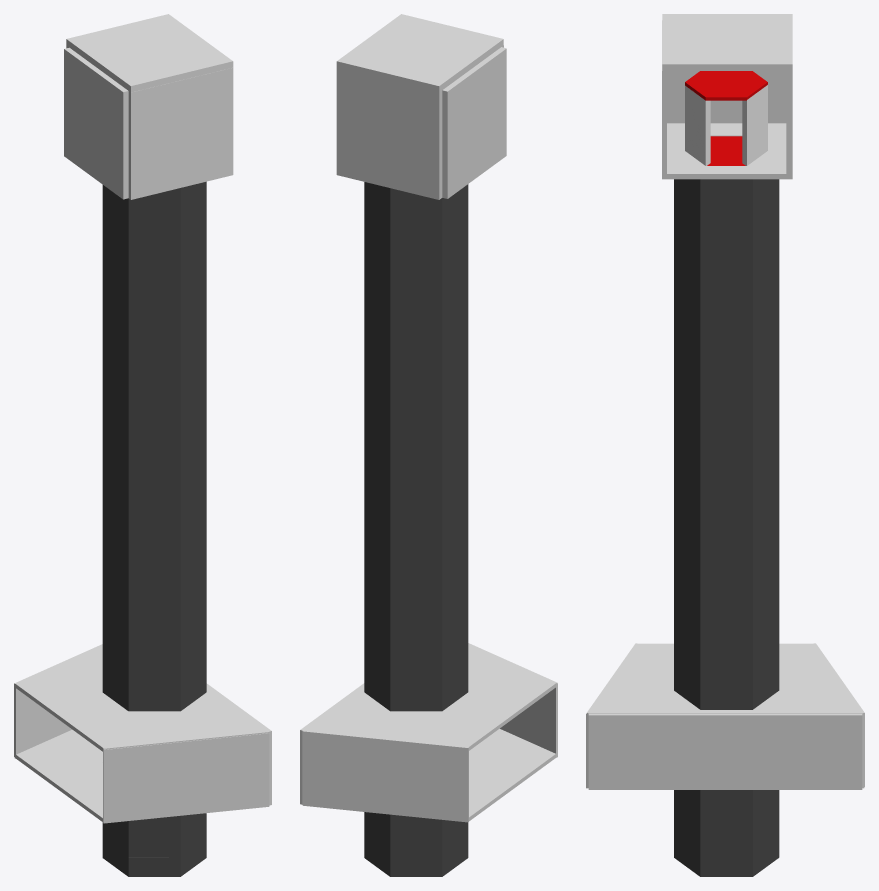
Rendered from HexagonalElevator.fbx.
3 renders of one model, left to right at view 1: azimuth 30°, elevation 25°; view 2: azimuth 150°, elevation 25°; view 3: azimuth 270°, elevation 25°, orthographic.
Visible parts, largest first — view 1: ElevatorShaft, Plane, Chapter1-2Area-Bottom, Chapter1-2Area-top, ElevatorShaft.001; view 2: ElevatorShaft, Plane, Chapter1-2Area-top, Chapter1-2Area-Bottom, ElevatorShaft.001; view 3: ElevatorShaft, Chapter1-2Area-Bottom, Plane, Chapter1-2Area-top, ElevatorMainObject, ElevatorShaft.001, ElevatorTopObject.
Boxes of the visible parts, <box> form: ElevatorShaft: <box>102,181,206,876</box>; Plane: <box>64,14,233,199</box>; Chapter1-2Area-Bottom: <box>14,683,271,823</box>; Chapter1-2Area-top: <box>14,644,269,821</box>; ElevatorShaft.001: <box>102,816,180,857</box>; ElevatorShaft: <box>364,182,468,876</box>; Plane: <box>336,14,506,199</box>; Chapter1-2Area-top: <box>302,643,557,821</box>; Chapter1-2Area-Bottom: <box>300,683,557,822</box>; ElevatorShaft.001: <box>364,812,468,858</box>; ElevatorShaft: <box>674,179,779,876</box>; Chapter1-2Area-Bottom: <box>586,713,864,789</box>; Plane: <box>662,14,792,179</box>; Chapter1-2Area-top: <box>586,643,864,786</box>; ElevatorMainObject: <box>685,85,767,165</box>; ElevatorShaft.001: <box>700,790,779,858</box>; ElevatorTopObject: <box>685,71,767,100</box>.
Size of the model in its own units: 664 by 3537 by 1095.
